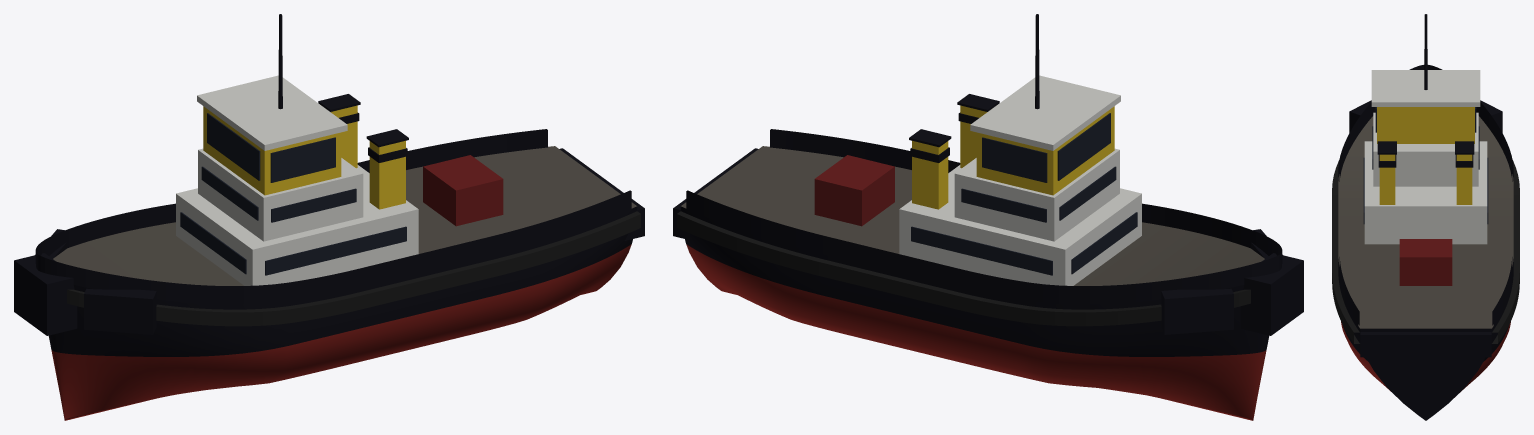
The model's file is tug.glb.
The picture shows the model from 3 angles, left to right: view 1: azimuth 30°, elevation 25°; view 2: azimuth 150°, elevation 25°; view 3: azimuth 270°, elevation 25°; orthographic projection. The views are drawn at different scales.
Visible parts, largest first — view 1: tug; view 2: tug; view 3: tug.
Boxes of the visible parts, <box> form: tug: <box>14,14,644,420</box>; tug: <box>673,14,1303,420</box>; tug: <box>1332,14,1519,420</box>.
Bounding box in the file's own units: 30.2 × 17.8 × 10.7.
